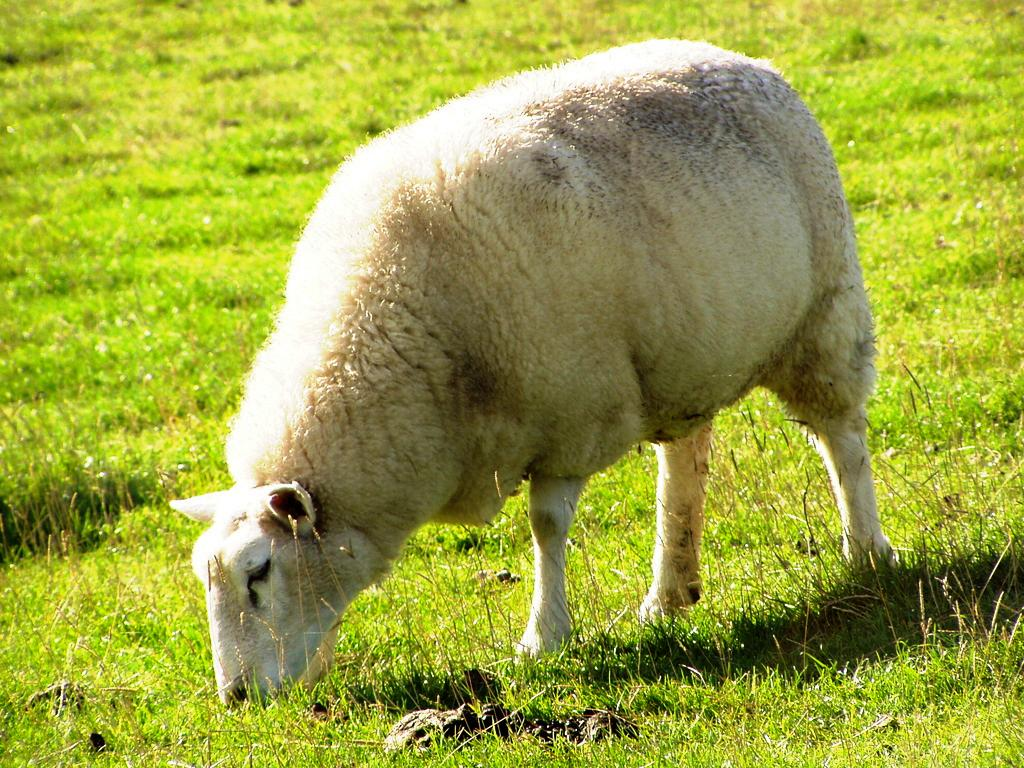Sheep: (170, 37, 896, 709)
